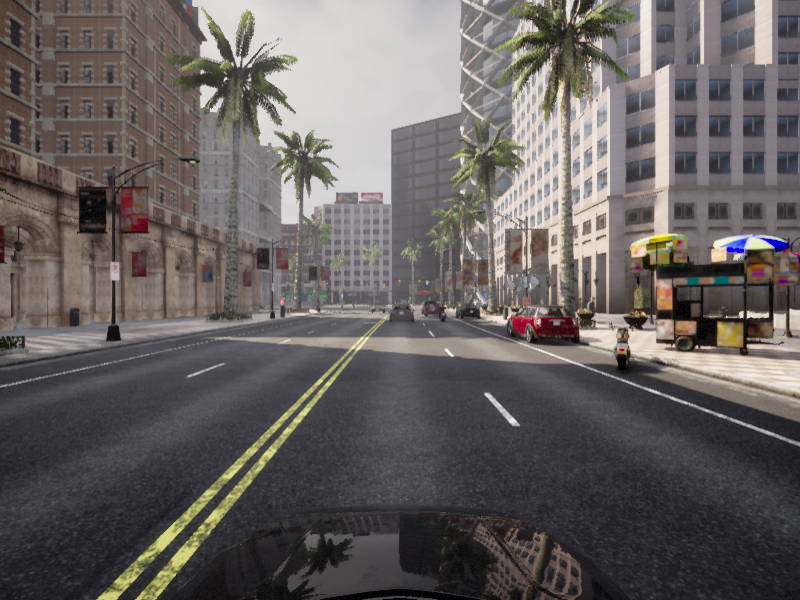vehicle: (388, 303, 415, 323), (422, 302, 443, 317), (436, 303, 448, 323)
